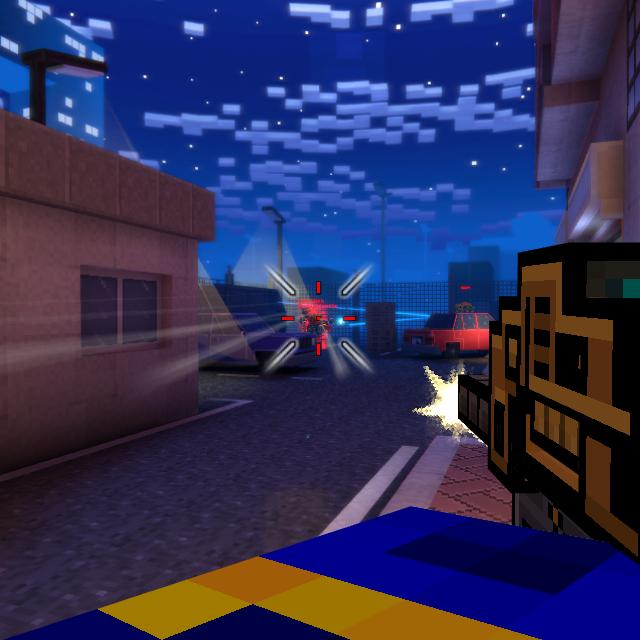Enemy: (306, 315, 327, 355)
